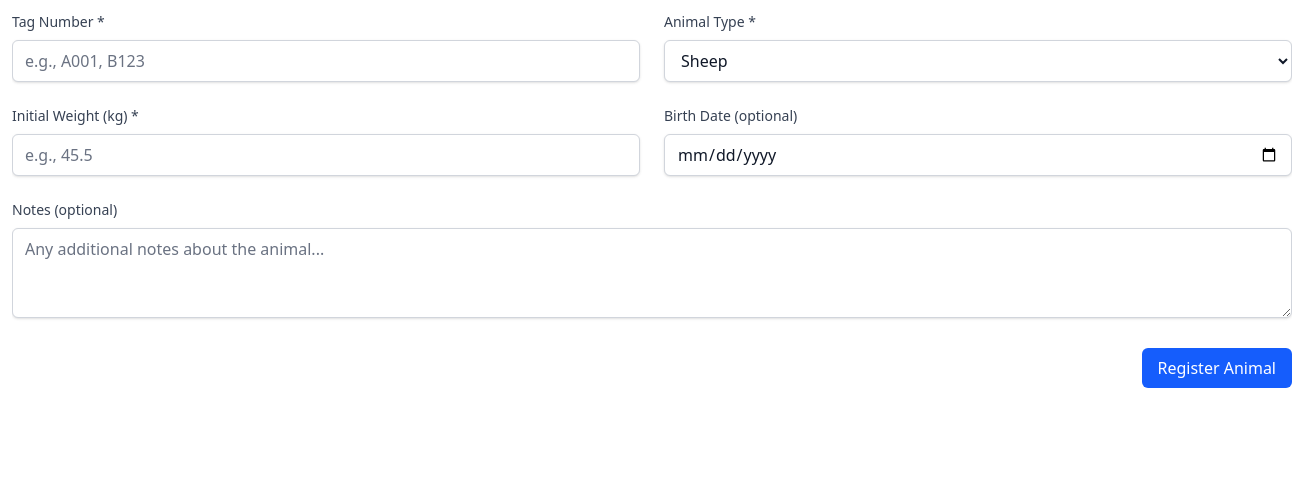
Scenario: AnimalRegistrationForm › should show success message on successful submission
The width and height of the screenshot is (1304, 487).
Type "A001" into the field labelled "Tag Number *" at (326, 61), box [12, 40, 640, 82]
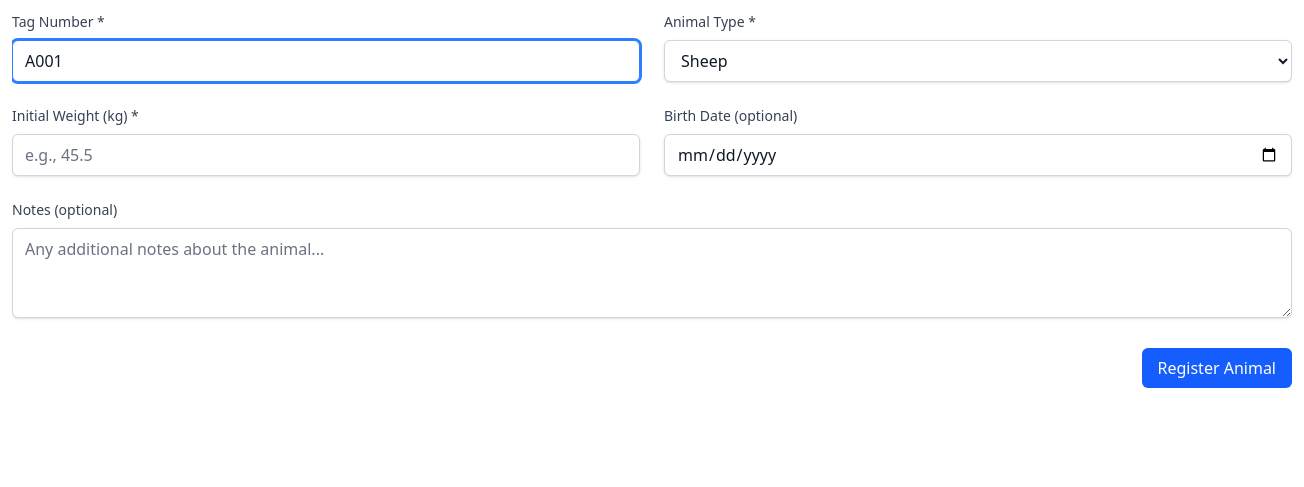
Type "45.5" into the number field labelled "Initial Weight (kg) *" at (326, 155), box [12, 134, 640, 176]
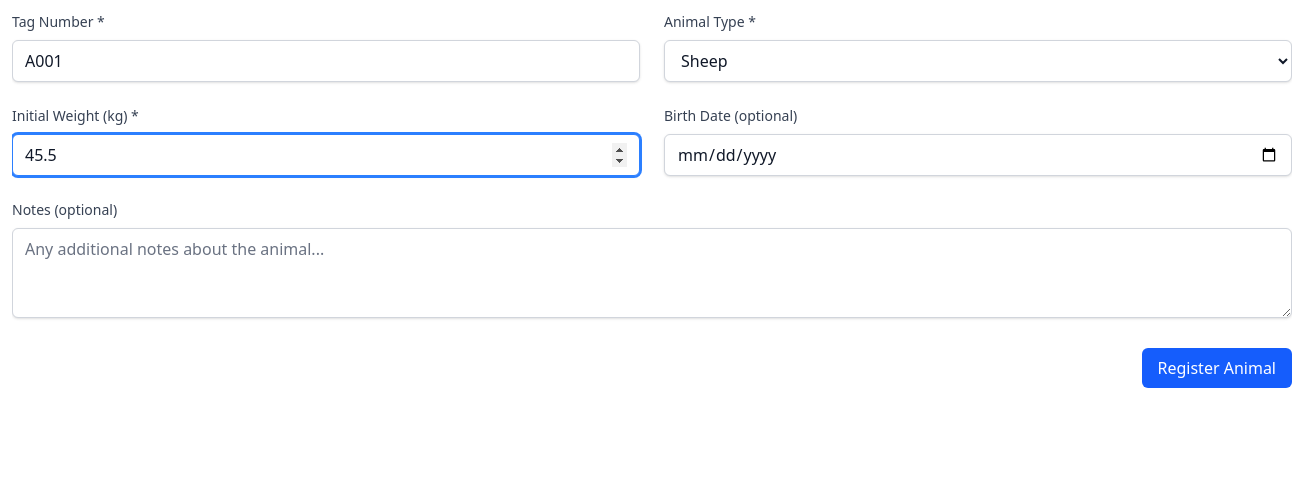
Click the button "Register Animal" at (1217, 368), box [1142, 348, 1292, 388]
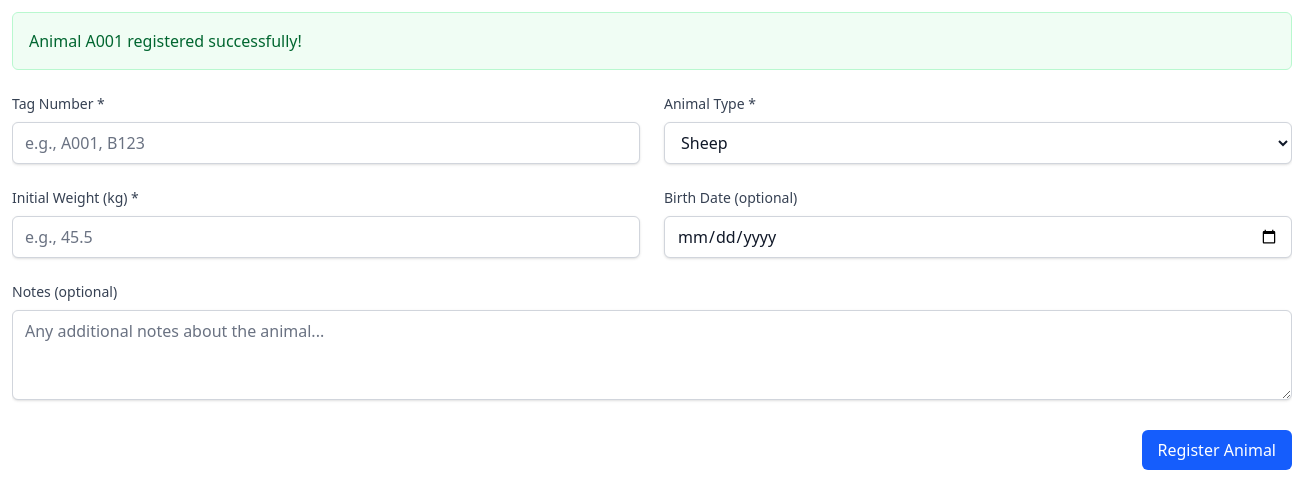
Result: the text "Animal A001 registered successfully!" is shown at [12, 12, 1292, 70]
